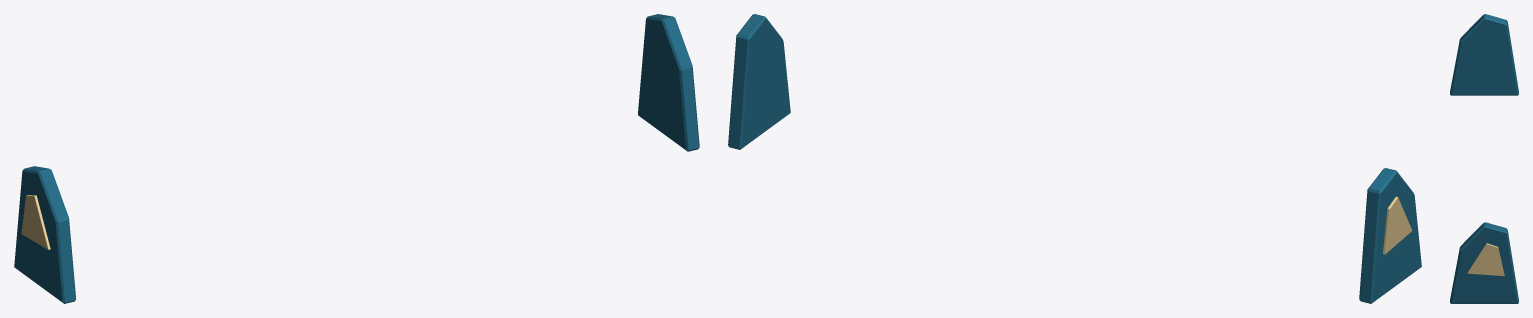
Rendered from EA_TwinTipFins.fbx.
The picture shows the model from 3 angles, left to right: view 1: azimuth 30°, elevation 25°; view 2: azimuth 150°, elevation 25°; view 3: azimuth 270°, elevation 25°; orthographic projection. The views are drawn at different scales.
Visible parts, largest first — view 1: EA_TwinTipFins; view 2: EA_TwinTipFins; view 3: EA_TwinTipFins.
Boxes of the visible parts, bbox=[...] form: EA_TwinTipFins: bbox=[14, 14, 699, 303]; EA_TwinTipFins: bbox=[728, 14, 1421, 303]; EA_TwinTipFins: bbox=[1450, 14, 1518, 303].
Size of the model in its own units: 3.52 by 0.5993 by 0.4772.
Materials: 2 (2 with a texture image).
